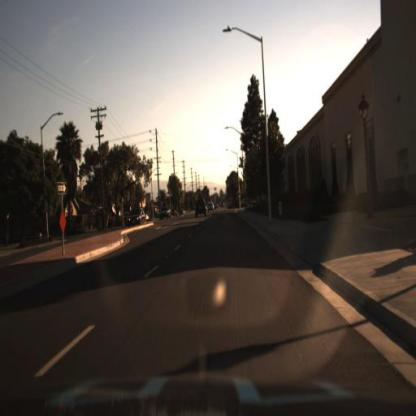car: (125, 202, 147, 229), (124, 206, 147, 230), (192, 194, 209, 223), (157, 202, 172, 224)
